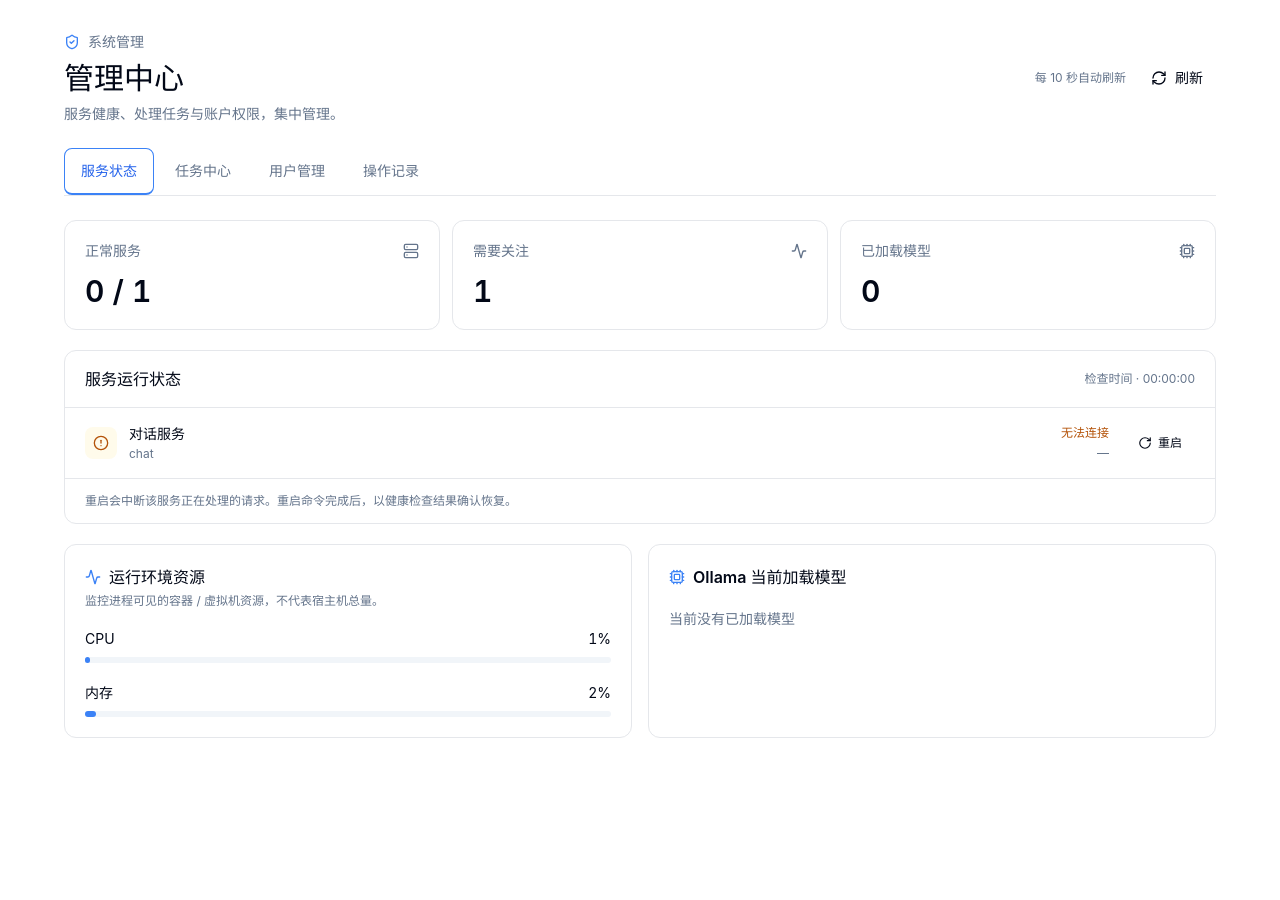
localizes health and submits a confirmed restart for the selected service
The width and height of the screenshot is (1280, 900).
Expected: the text "无法连接" is shown, [1061,425,1109,441]
Click the button with aria-label "重启 对话服务": coordinates (1160, 443) [1125,426,1195,460]
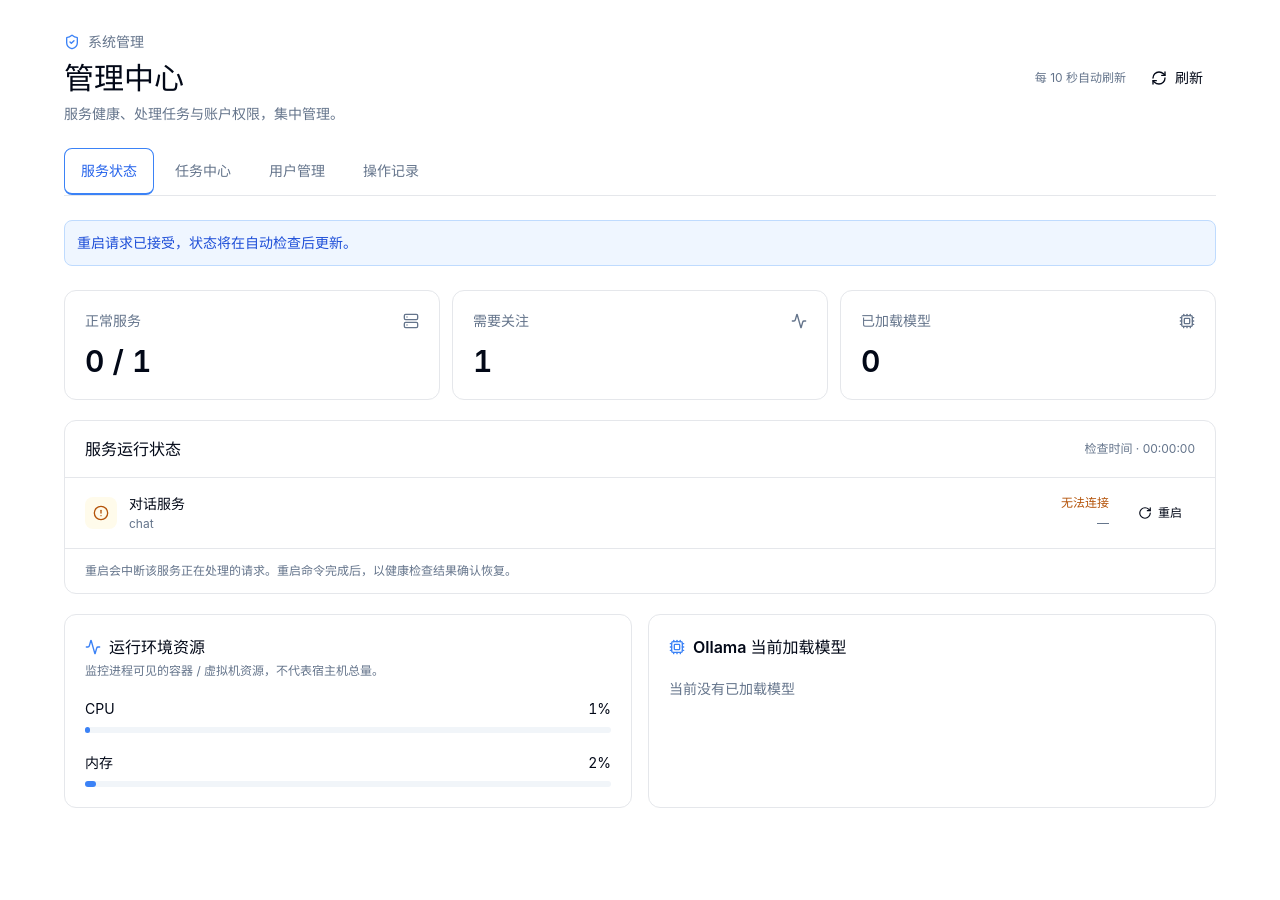
Expected: the text "重启请求已接受，状态将在自动检查后更新。" is shown, [64,220,1216,266]
